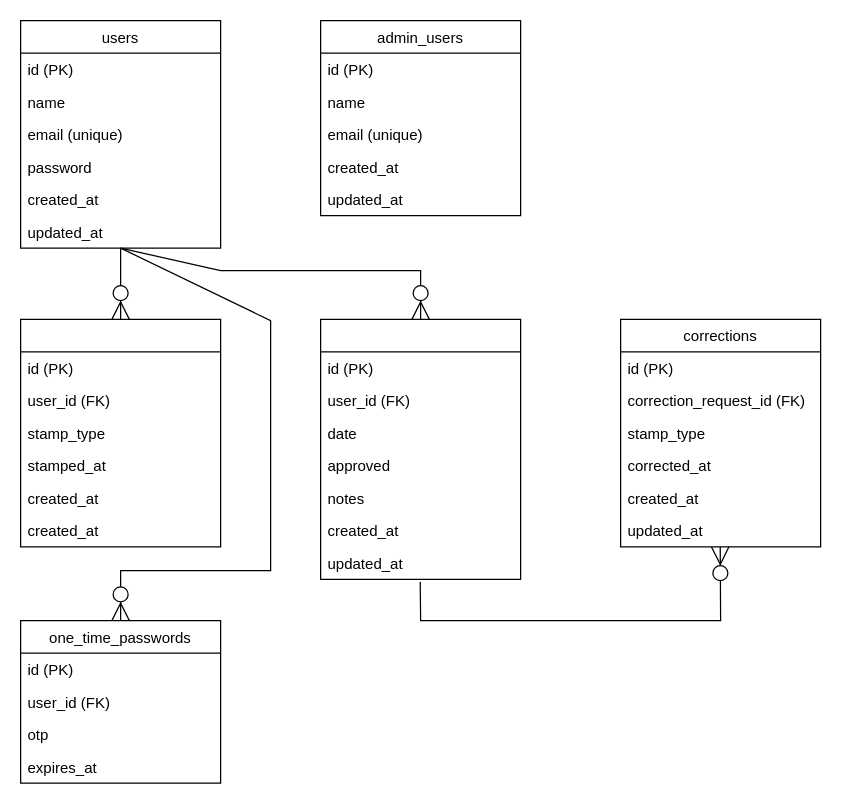
This 841x804 diagram has some shape labels left out. Each missing label, with the box of its shape:
correction_requests: (319, 318, 521, 579)
stamps: (19, 318, 221, 547)
